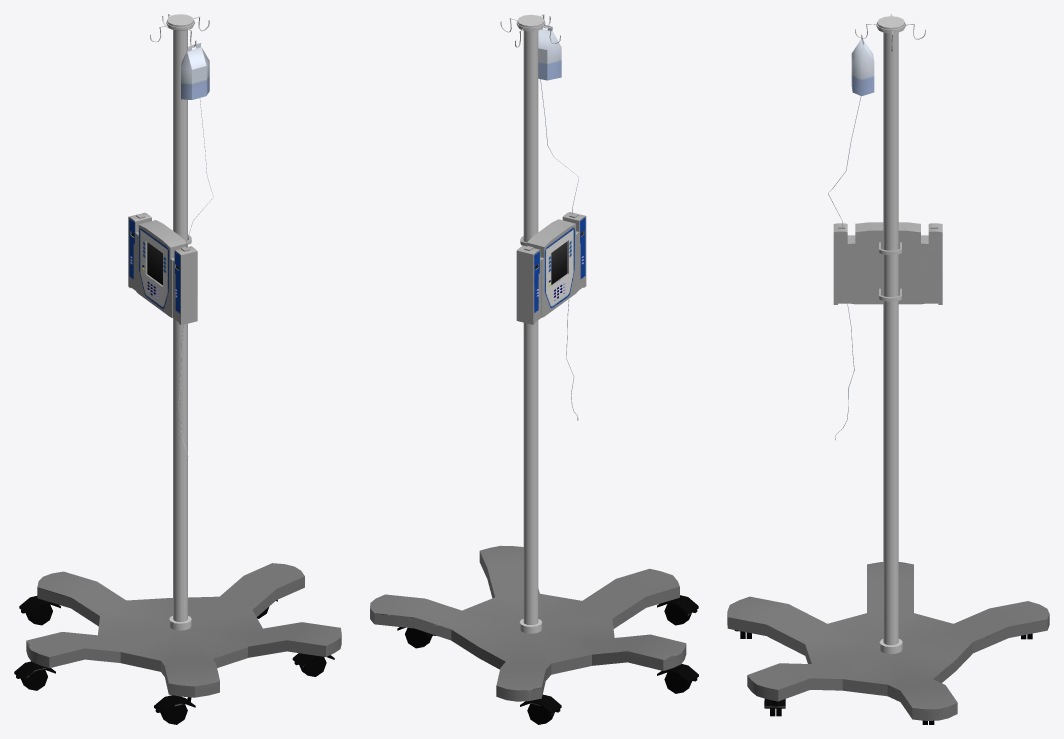
The model's file is OBJ-iv_stand.glb.
3 renders of one model, left to right at view 1: azimuth 30°, elevation 25°; view 2: azimuth 150°, elevation 25°; view 3: azimuth 270°, elevation 25°, orthographic. The views are drawn at different scales.
Parts seen in each view (by area): view 1: Cylinder001; view 2: Cylinder001; view 3: Cylinder001.
Boxes of the visible parts, <box> form: Cylinder001: <box>14,14,341,724</box>; Cylinder001: <box>370,14,698,724</box>; Cylinder001: <box>727,14,1049,724</box>.
Bounding box in the file's own units: 0.9482 × 1.9 × 0.8471.
Materials: 1 (1 with a texture image).
